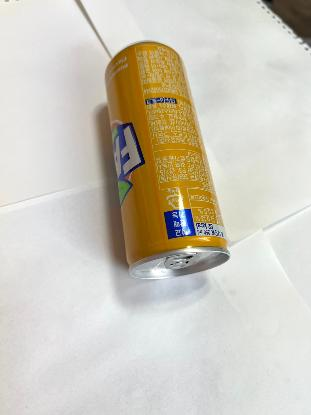Can: (102, 38, 234, 283)
